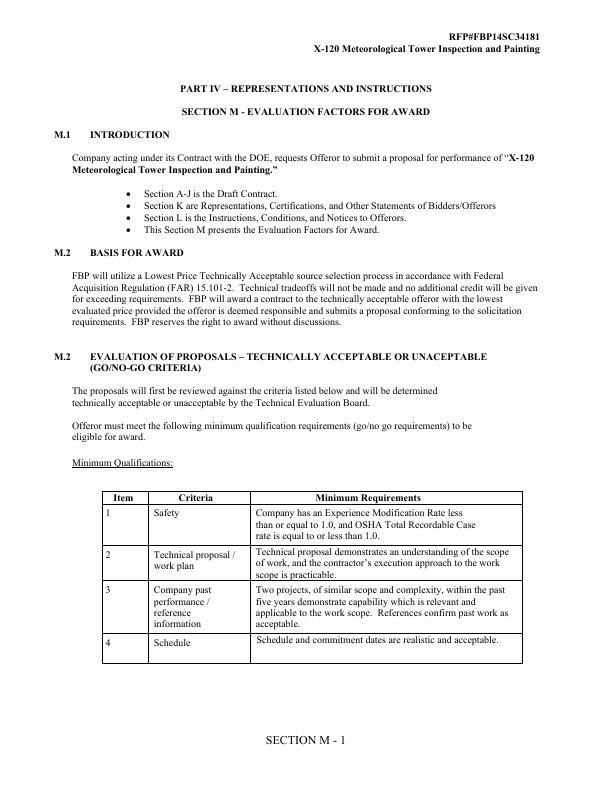table: (97, 485, 531, 671)
text: (51, 348, 493, 473), (51, 126, 544, 238), (51, 245, 544, 330), (177, 81, 434, 120), (312, 27, 545, 61)
